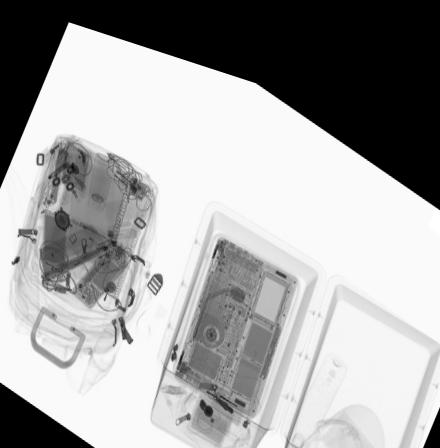Lighter: (105, 219, 137, 230)
